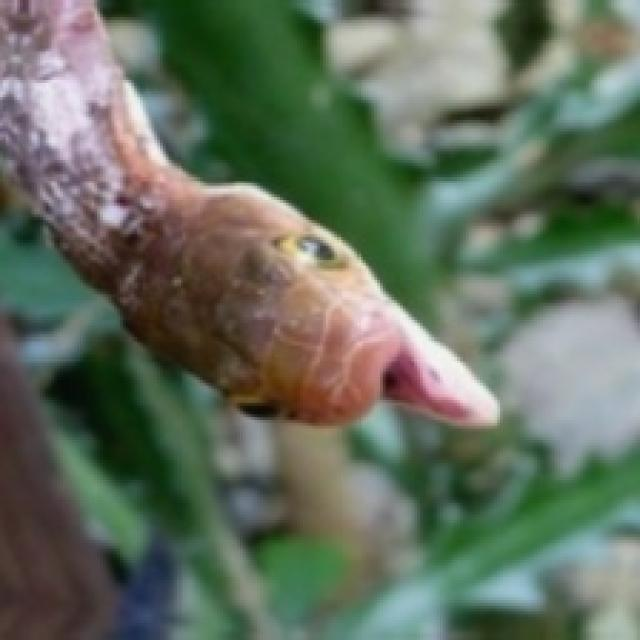reddish rat snake: (0, 0, 497, 423), (0, 320, 111, 637)
